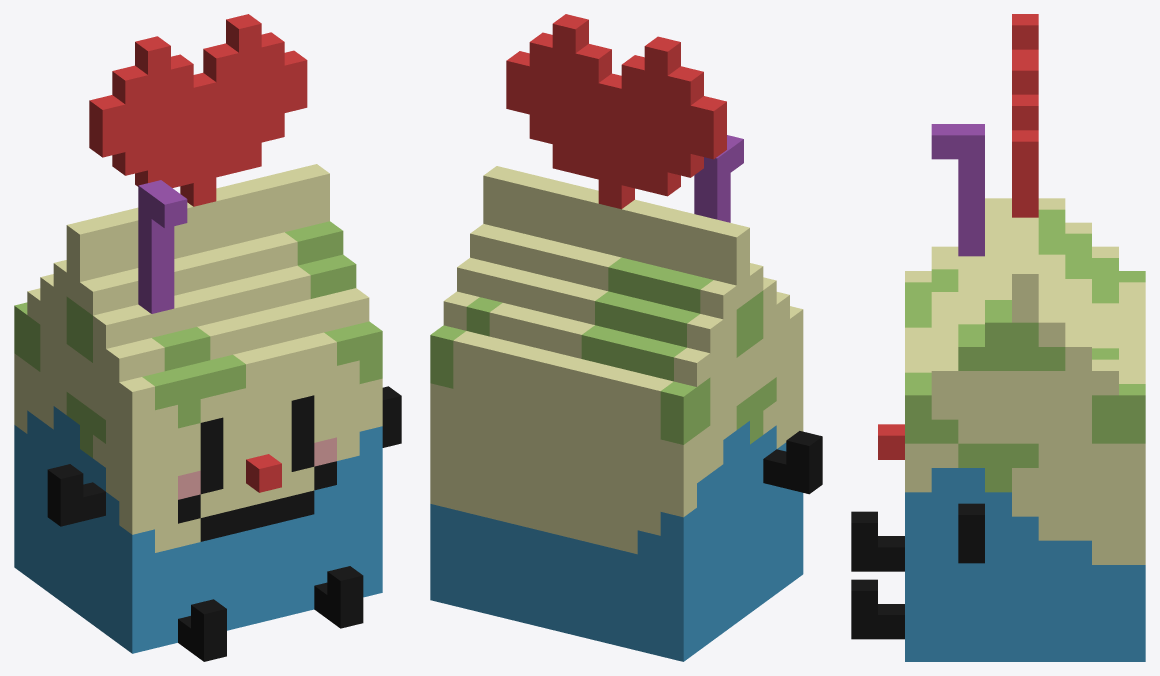
File: lv17 milk.fbx
The picture shows the model from 3 angles, left to right: view 1: azimuth 30°, elevation 25°; view 2: azimuth 150°, elevation 25°; view 3: azimuth 270°, elevation 25°; orthographic projection.
Visible parts, largest first — view 1: polySurface7703, polySurface7248, polySurface7831, polySurface7507, polySurface7709, polySurface7752, polySurface7754, polySurface7661, polySurface7820, polySurface7244, polySurface7816, polySurface7523 (+161 smaller); view 2: polySurface7815, polySurface7364, polySurface7743, polySurface7816, polySurface7819, polySurface7709, polySurface7820, polySurface7742, polySurface7831, polySurface7507, polySurface7744, polySurface7360 (+209 smaller); view 3: polySurface7774, polySurface7776, polySurface7703, polySurface7244, polySurface7729, polySurface7785, polySurface7822, polySurface7243, polySurface7248, polySurface7358, polySurface7396, polySurface7464 (+121 smaller).
Boxes of the visible parts, left/top/right/bottom form: polySurface7703: left=151, top=189, right=187, bottom=228; polySurface7248: left=327, top=566, right=363, bottom=604; polySurface7831: left=89, top=95, right=125, bottom=133; polySurface7507: left=47, top=464, right=83, bottom=502; polySurface7709: left=66, top=219, right=102, bottom=258; polySurface7752: left=93, top=310, right=128, bottom=348; polySurface7754: left=106, top=343, right=141, bottom=382; polySurface7661: left=246, top=454, right=281, bottom=492; polySurface7820: left=226, top=14, right=261, bottom=52; polySurface7244: left=191, top=599, right=226, bottom=637; polySurface7816: left=112, top=65, right=147, bottom=104; polySurface7523: left=119, top=377, right=154, bottom=415; polySurface7815: left=644, top=36, right=680, bottom=75; polySurface7364: left=660, top=381, right=696, bottom=420; polySurface7743: left=687, top=314, right=723, bottom=352; polySurface7816: left=667, top=66, right=703, bottom=105; polySurface7819: left=575, top=44, right=611, bottom=82; polySurface7709: left=713, top=222, right=749, bottom=261; polySurface7820: left=552, top=14, right=588, bottom=53; polySurface7742: left=700, top=280, right=736, bottom=319; polySurface7831: left=690, top=96, right=726, bottom=135; polySurface7507: left=786, top=431, right=822, bottom=469; polySurface7744: left=674, top=347, right=710, bottom=386; polySurface7360: left=660, top=532, right=696, bottom=565; polySurface7774: left=931, top=359, right=958, bottom=395; polySurface7776: left=1038, top=311, right=1065, bottom=346; polySurface7703: left=931, top=124, right=958, bottom=159; polySurface7244: left=851, top=511, right=877, bottom=547; polySurface7729: left=1012, top=262, right=1038, bottom=298; polySurface7785: left=1092, top=359, right=1118, bottom=395; polySurface7822: left=1012, top=94, right=1038, bottom=130; polySurface7243: left=958, top=503, right=984, bottom=538; polySurface7248: left=851, top=579, right=877, bottom=614; polySurface7358: left=878, top=604, right=904, bottom=639; polySurface7396: left=1119, top=384, right=1145, bottom=419; polySurface7464: left=878, top=536, right=904, bottom=571.
Bounding box in the file's own units: 15 × 23 × 11.
